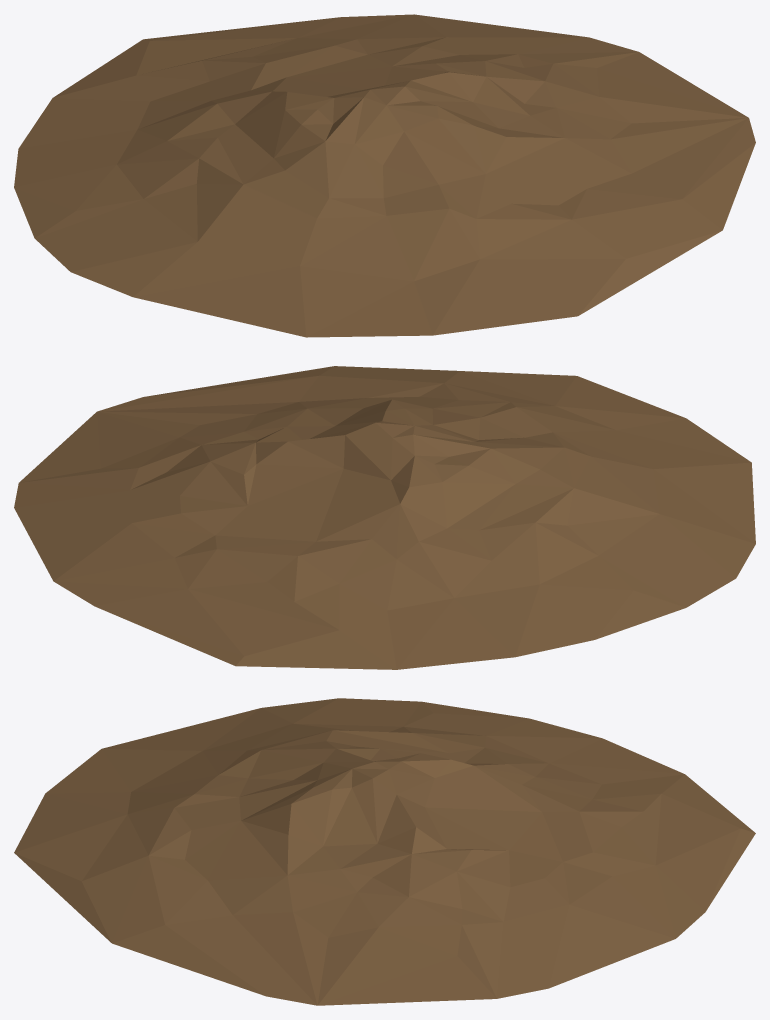
Rendered from SM_Envr_Nature_Terrain_Ground_Dirt_02.fbx.
3 renders of one model, top to bottom at view 1: azimuth 30°, elevation 25°; view 2: azimuth 150°, elevation 25°; view 3: azimuth 270°, elevation 25°, orthographic. The views are drawn at different scales.
Parts seen in each view (by area): view 1: SM_Envr_Nature_Terrain_Ground_Dirt_02; view 2: SM_Envr_Nature_Terrain_Ground_Dirt_02; view 3: SM_Envr_Nature_Terrain_Ground_Dirt_02.
Boxes of the visible parts, x1,y1,x2,y2 form: SM_Envr_Nature_Terrain_Ground_Dirt_02: (14, 14, 755, 337); SM_Envr_Nature_Terrain_Ground_Dirt_02: (14, 366, 755, 669); SM_Envr_Nature_Terrain_Ground_Dirt_02: (14, 698, 755, 1005).
Bounding box in the file's own units: 652 × 81.09 × 665.
